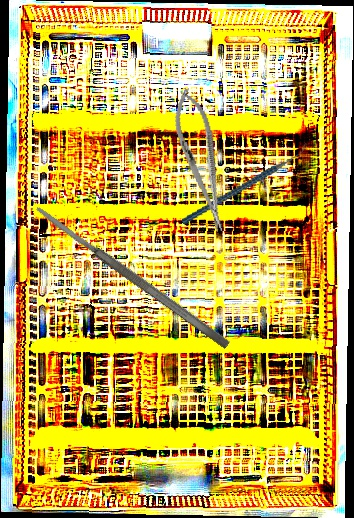Chopper: (171, 140, 317, 225)
Needle Holder: (166, 85, 236, 236)
Spatula Surgical: (33, 202, 232, 351)
